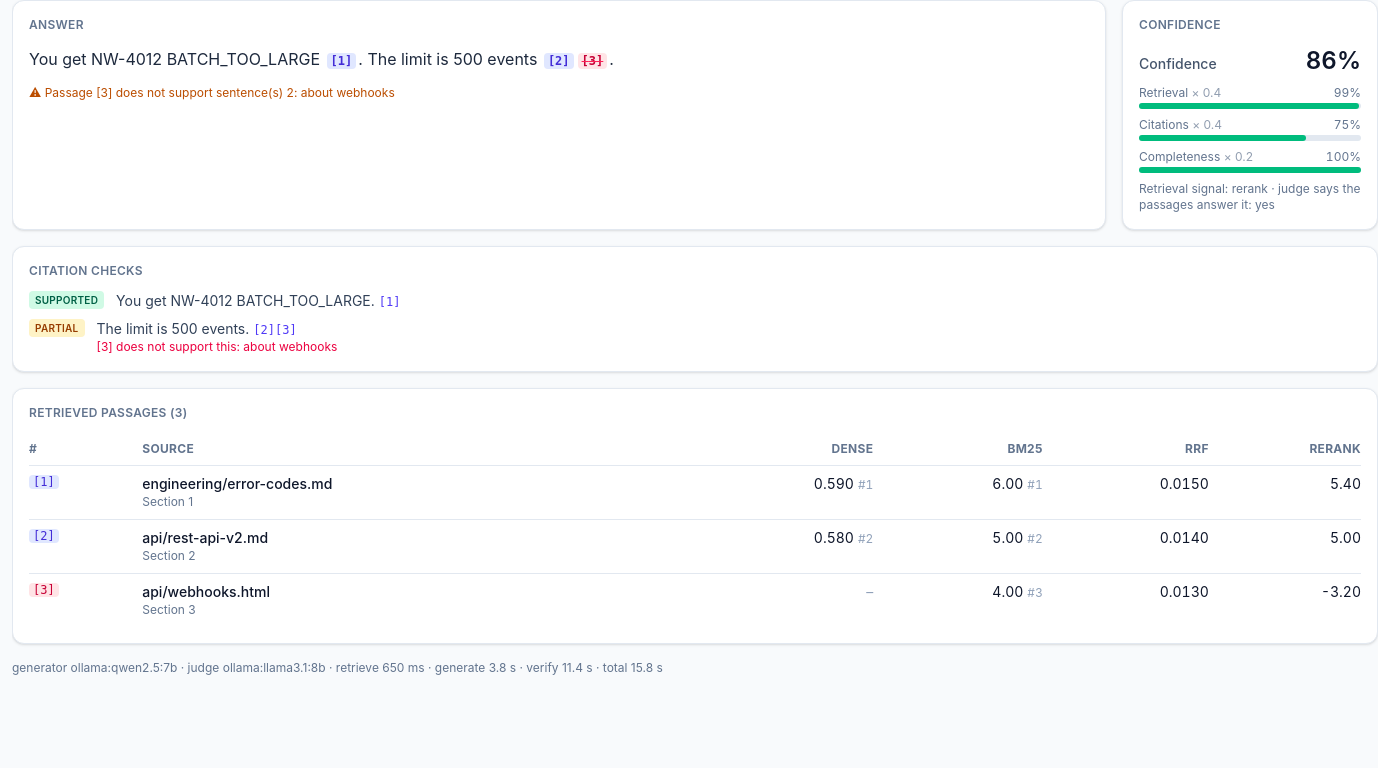
it: AnswerPanel › shows verdicts, the confidence breakdown, every stage score and timings
Expected: the text "SUPPORTED" is shown, [29, 291, 104, 309]
Expected: the text "PARTIAL" is shown, [29, 319, 84, 337]
What coordinates should you click on to do the following:
click the button "engineering/error-codes.md Section 1"
I would click on:
 (237, 492)
Its box is [142, 474, 332, 510].
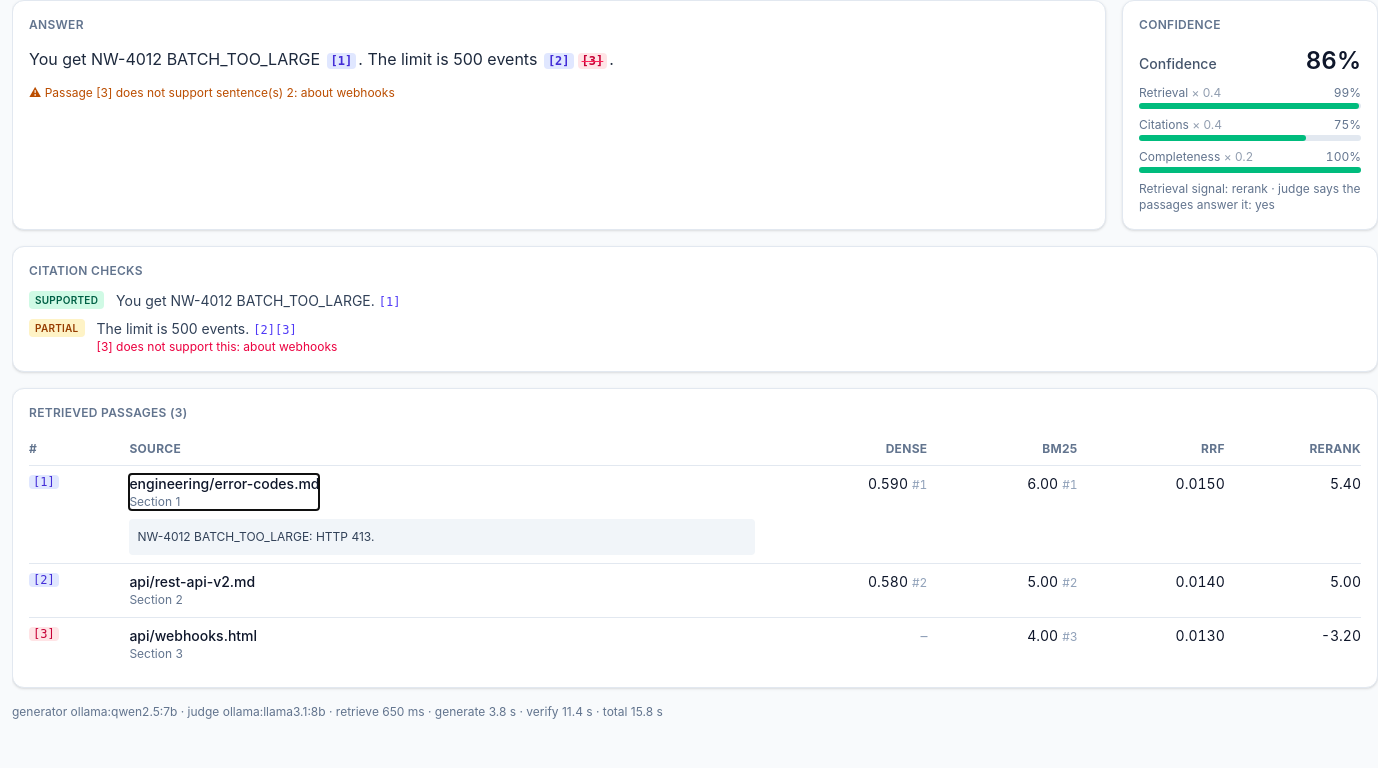
Expected: the text "NW-4012 BATCH_TOO_LARGE: HTTP 413." is shown, [129, 519, 755, 555]
